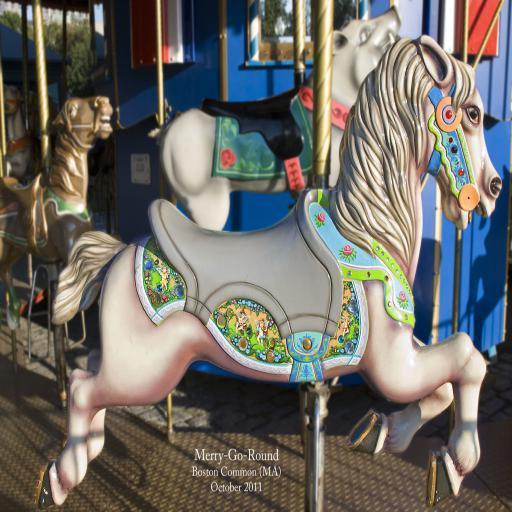horse: (36, 34, 504, 512), (0, 96, 114, 334), (0, 83, 38, 182)
